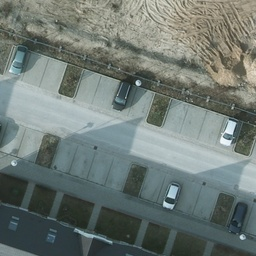car: (226, 204, 250, 235), (109, 83, 130, 112), (7, 46, 27, 76), (218, 116, 237, 145), (161, 181, 179, 211), (0, 120, 2, 153)
